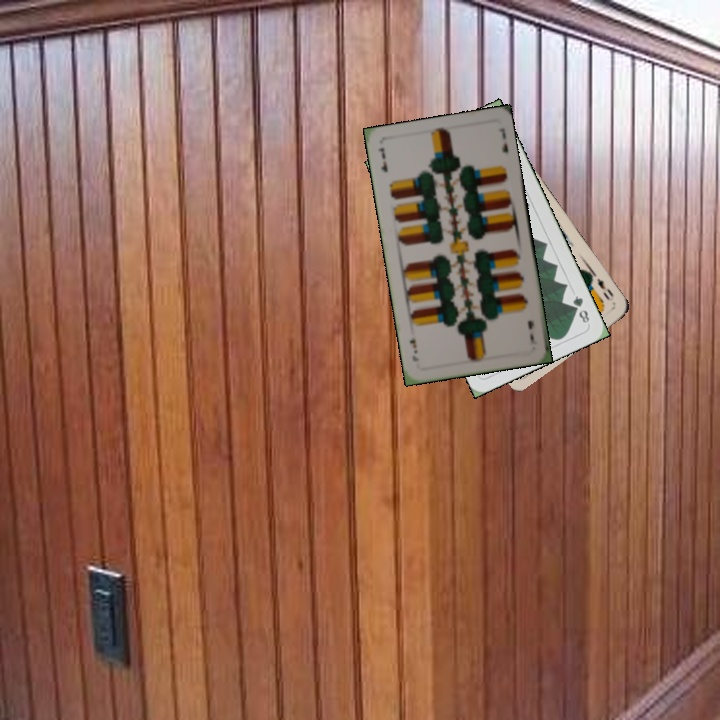E7: (374, 143, 391, 175), (523, 316, 540, 347)
EO: (593, 274, 617, 303)
G8: (569, 291, 592, 326)
